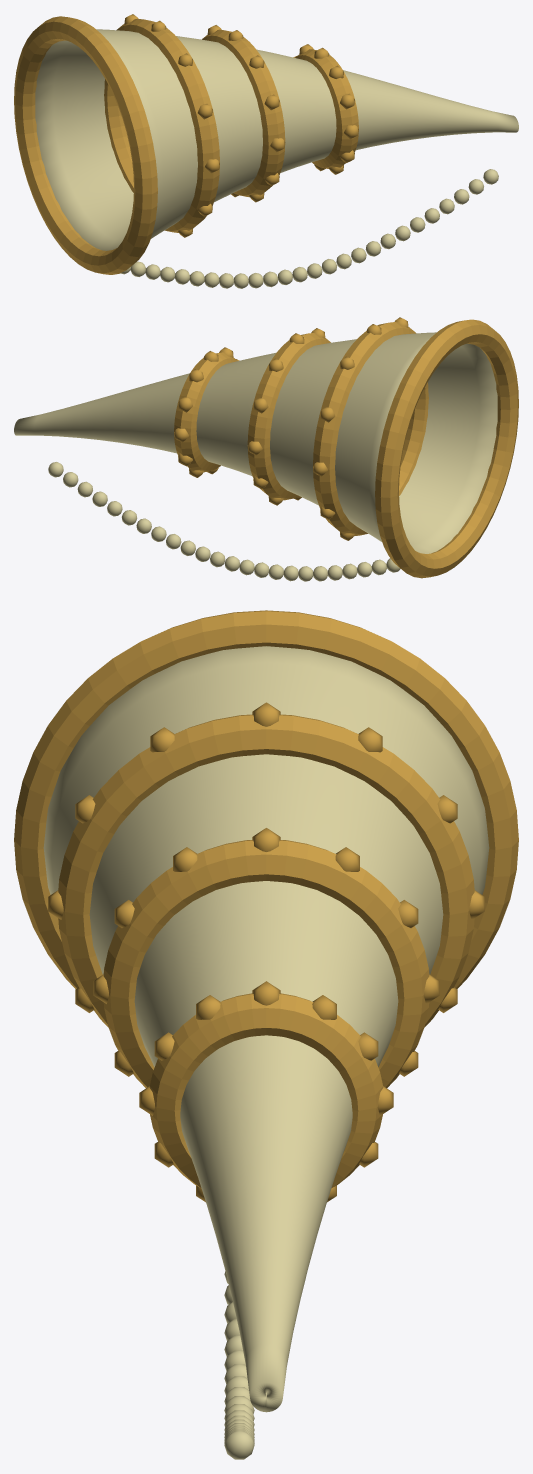
The picture shows the model from 3 angles, top to bottom: view 1: azimuth 30°, elevation 25°; view 2: azimuth 150°, elevation 25°; view 3: azimuth 270°, elevation 25°; orthographic projection. The views are drawn at different scales.
Visible parts, largest first — view 1: TI065 / curving hollow horn shell, TI065 / decorative mouth rim, TI065 / gold ornamental band.002, TI065 / gold ornamental band.001, TI065 / gold ornamental band; view 2: TI065 / curving hollow horn shell, TI065 / decorative mouth rim, TI065 / gold ornamental band.002, TI065 / gold ornamental band.001, TI065 / gold ornamental band; view 3: TI065 / curving hollow horn shell, TI065 / decorative mouth rim, TI065 / gold ornamental band.002, TI065 / gold ornamental band.001, TI065 / gold ornamental band.
Boxes of the visible parts, box(x1,y1,x2,y2) form: TI065 / curving hollow horn shell: box(35, 29, 518, 250); TI065 / decorative mouth rim: box(14, 16, 157, 274); TI065 / gold ornamental band.002: box(104, 18, 219, 232); TI065 / gold ornamental band.001: box(202, 29, 285, 197); TI065 / gold ornamental band: box(295, 49, 358, 168); TI065 / curving hollow horn shell: box(14, 332, 497, 553); TI065 / decorative mouth rim: box(375, 319, 518, 578); TI065 / gold ornamental band.002: box(313, 322, 428, 536); TI065 / gold ornamental band.001: box(247, 333, 330, 500); TI065 / gold ornamental band: box(174, 352, 237, 472); TI065 / curving hollow horn shell: box(43, 646, 489, 1412); TI065 / decorative mouth rim: box(14, 610, 518, 988); TI065 / gold ornamental band.002: box(58, 714, 474, 1027); TI065 / gold ornamental band.001: box(103, 840, 429, 1087); TI065 / gold ornamental band: box(149, 993, 383, 1187).
Bounding box in the file's own units: 2.88 × 1.88 × 1.5.
